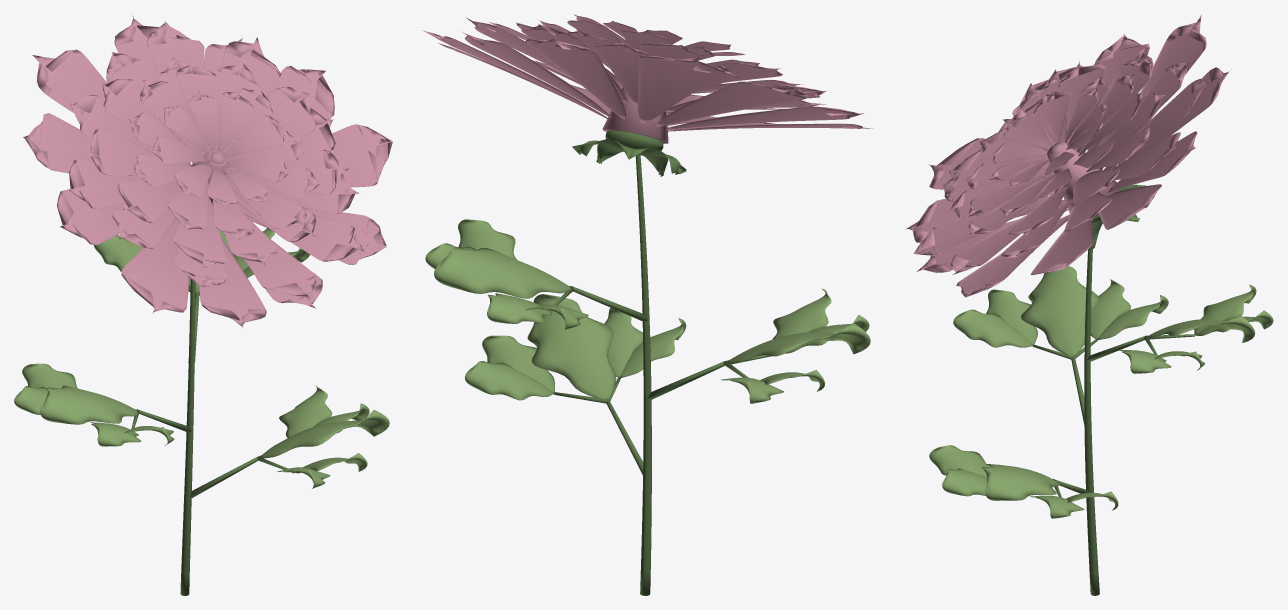
The model's file is peony-epic-v2.glb.
The picture shows the model from 3 angles, left to right: view 1: azimuth 30°, elevation 25°; view 2: azimuth 150°, elevation 25°; view 3: azimuth 270°, elevation 25°; orthographic projection. The views are drawn at different scales.
Parts seen in each view (by area): view 1: peony-epic-v2-petal, peony-epic-v2-leaf, peony-epic-v2-stem; view 2: peony-epic-v2-petal, peony-epic-v2-leaf, peony-epic-v2-stem; view 3: peony-epic-v2-petal, peony-epic-v2-leaf, peony-epic-v2-stem.
Boxes of the visible parts, x1,y1,x2,y2 form: peony-epic-v2-petal: [23, 15, 392, 327]; peony-epic-v2-leaf: [14, 228, 389, 488]; peony-epic-v2-stem: [131, 279, 294, 595]; peony-epic-v2-petal: [422, 14, 873, 143]; peony-epic-v2-leaf: [425, 219, 870, 403]; peony-epic-v2-stem: [550, 130, 770, 595]; peony-epic-v2-petal: [905, 14, 1231, 297]; peony-epic-v2-leaf: [929, 266, 1273, 518]; peony-epic-v2-stem: [1033, 184, 1194, 595].
Bounding box in the file's own units: 1.37 × 1.9 × 1.19.
